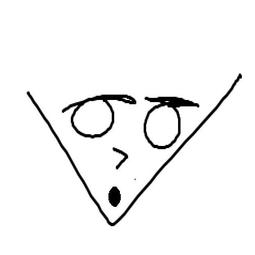empty_eye: (139, 98, 184, 151), (67, 95, 115, 141)
open_mouth: (104, 183, 125, 208)
pointy_nose: (108, 146, 129, 170)
